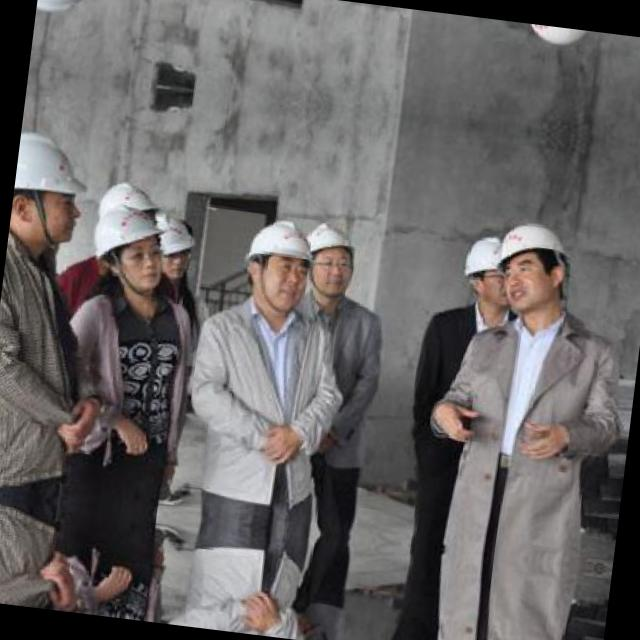helmet: (8, 127, 94, 250), (490, 218, 575, 316), (240, 212, 318, 315), (89, 202, 169, 292), (298, 213, 361, 296), (457, 233, 523, 310), (146, 206, 198, 283), (94, 176, 160, 230), (36, 0, 114, 20)
